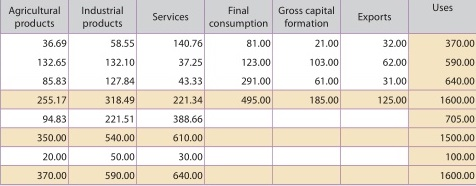column: (209, 1, 272, 185), (278, 1, 340, 186), (8, 1, 67, 184), (81, 1, 134, 186), (152, 1, 203, 186), (357, 1, 408, 186), (432, 1, 476, 186)
row: (1, 3, 476, 28), (1, 76, 476, 86), (1, 171, 476, 181), (2, 38, 476, 48), (1, 96, 476, 105), (1, 152, 476, 161), (1, 58, 476, 66), (1, 115, 476, 123), (1, 134, 476, 142)
